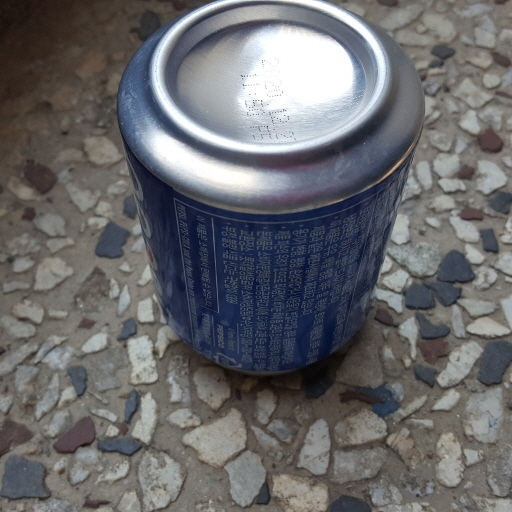Metal_0: (117, 3, 425, 371)
